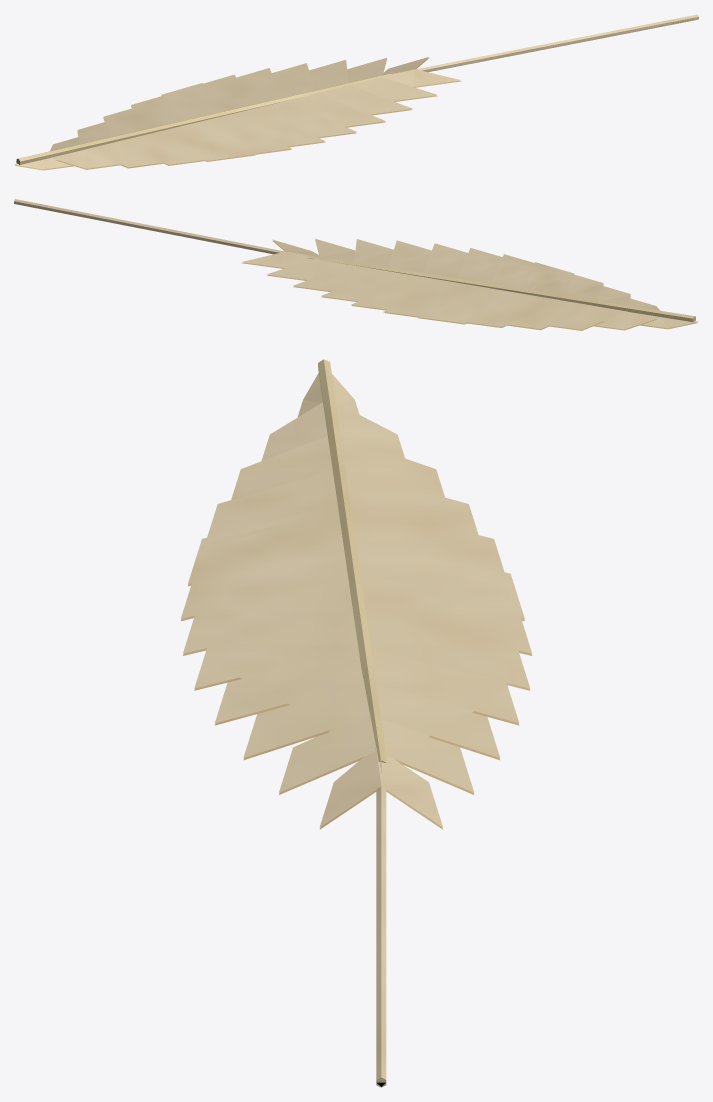
File: Quill.obj
3 renders of one model, top to bottom at view 1: azimuth 30°, elevation 25°; view 2: azimuth 150°, elevation 25°; view 3: azimuth 270°, elevation 25°, orthographic. The views are drawn at different scales.
Visible parts, largest first — view 1: Quill_ShaftAndBarbs; view 2: Quill_ShaftAndBarbs; view 3: Quill_ShaftAndBarbs.
Part boxes in pixels (x1=…): Quill_ShaftAndBarbs: x1=14, y1=14, x2=698, y2=170; Quill_ShaftAndBarbs: x1=14, y1=199, x2=698, y2=330; Quill_ShaftAndBarbs: x1=181, y1=359, x2=531, y2=1087.
Bounding box in the file's own units: 0.4328 × 0.0246 × 0.0985.
Materials: 4 (3 with a texture image).
